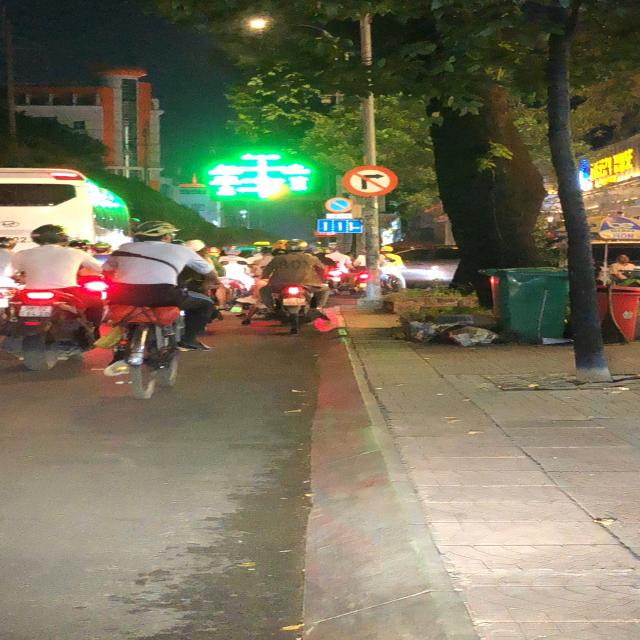Bien bao cam re phai: (343, 165, 399, 196)
